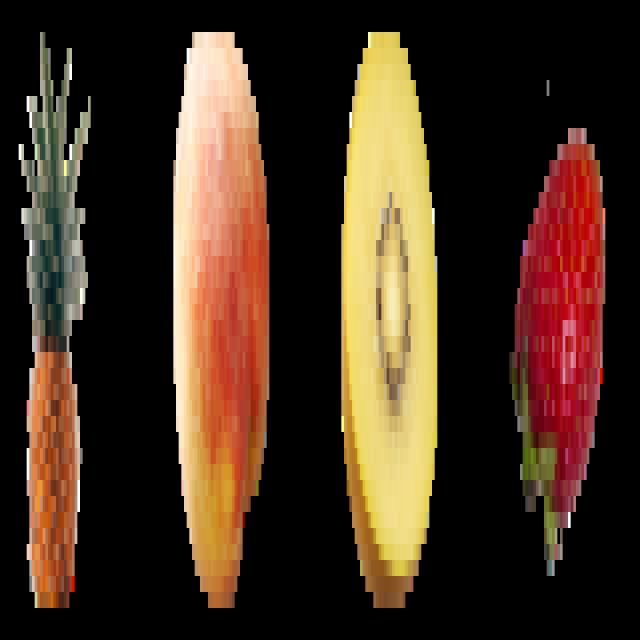kiwifruit: (340, 22, 440, 611)
peach: (171, 16, 270, 618)
pineapples: (20, 22, 89, 616)
strawberry: (508, 112, 609, 575)
